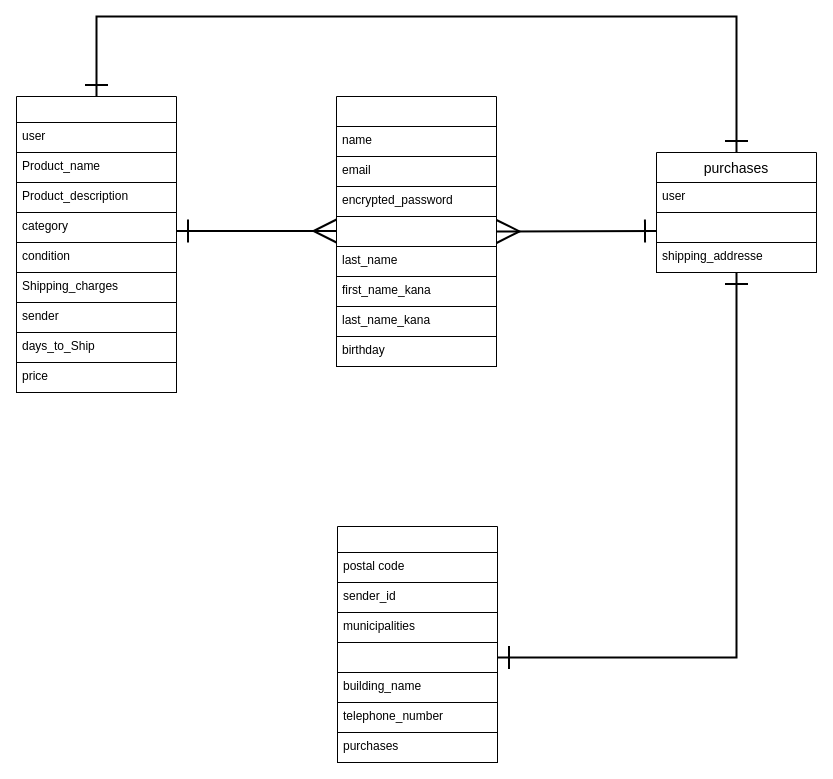
Some shapes in this 833 by 779 pixel diagram are drawn without their labels. Each missing label, with the box of its shape:
address: (336, 642, 498, 672)
exhibit: (656, 212, 816, 242)
exhibits: (16, 96, 176, 212)
first_name: (336, 216, 496, 246)
shipping_addresses: (336, 526, 498, 642)
users: (336, 96, 496, 216)
